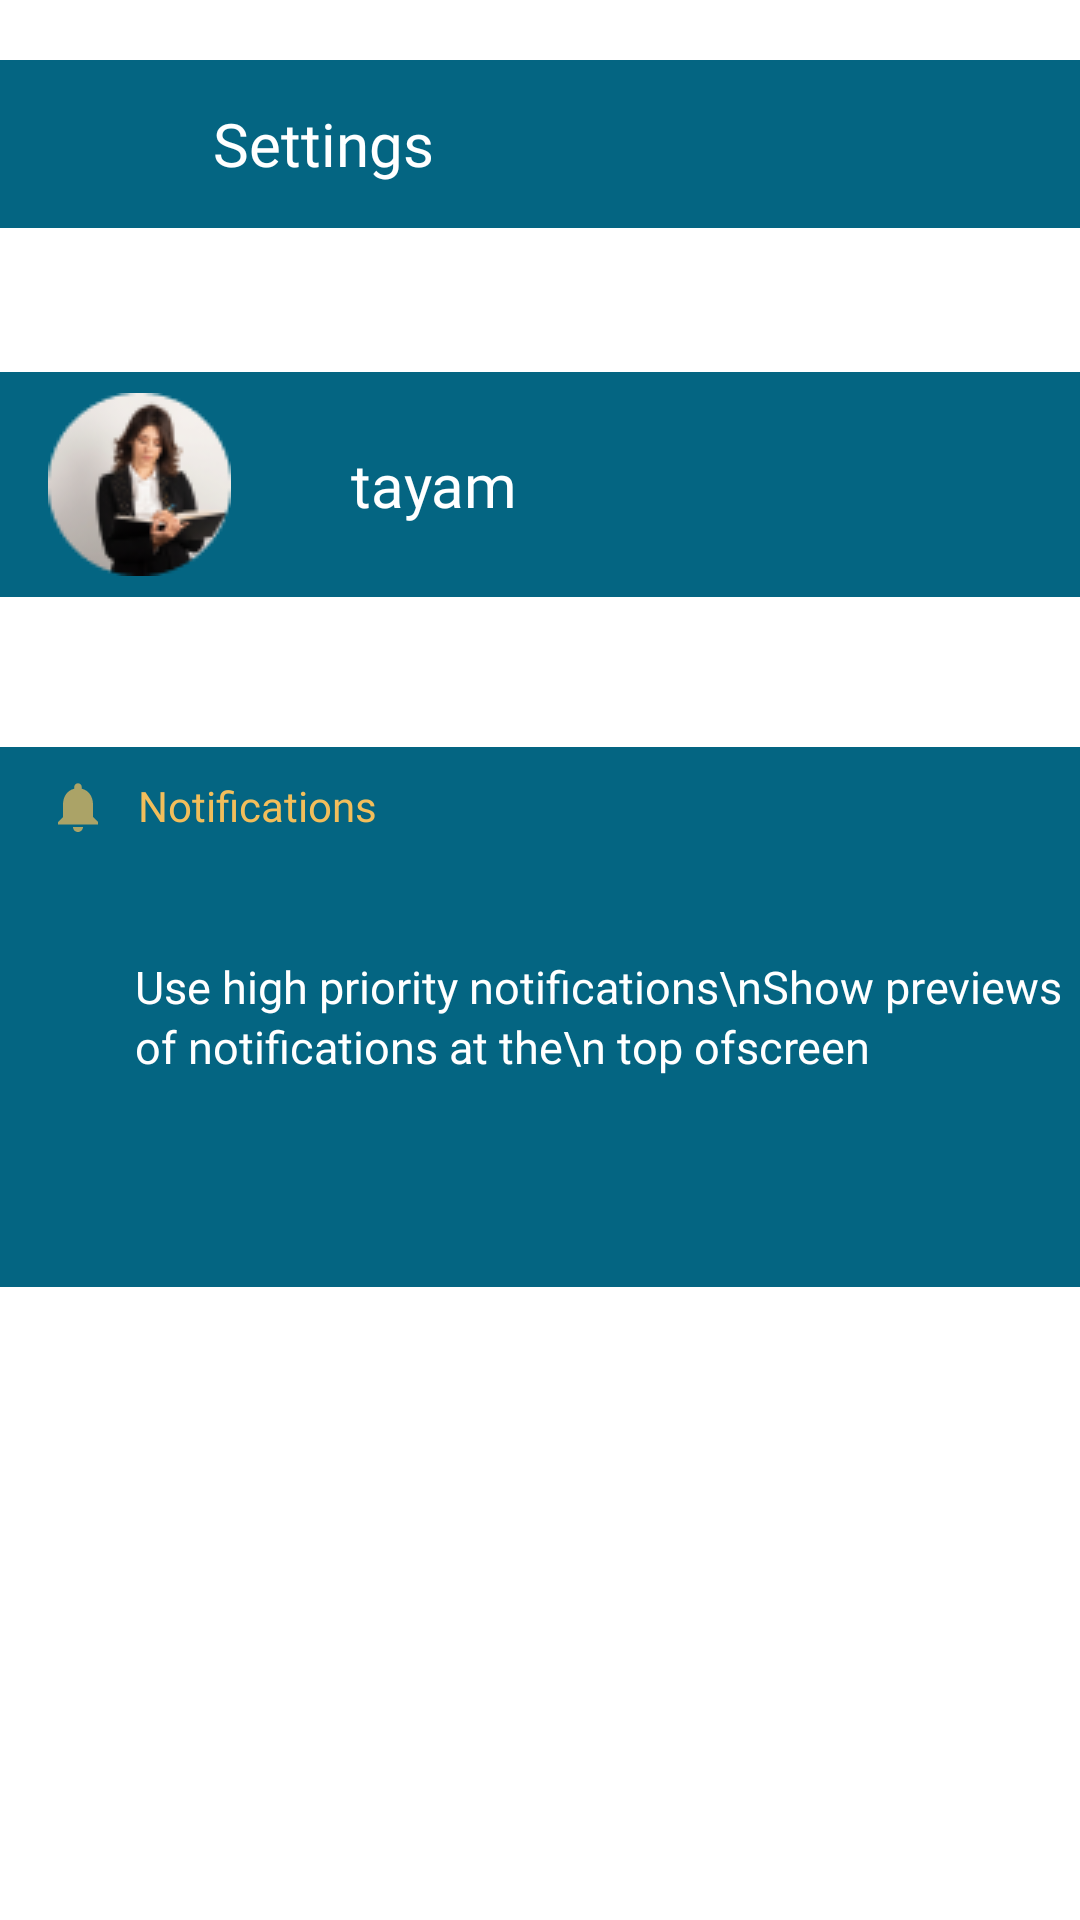

Icons on this 1080*1920 Android screen, each with the point to tap as [x,y]:
userphoto: [139,484]
